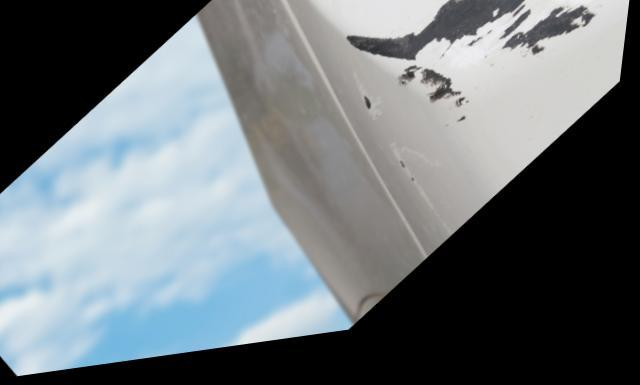scratch: (339, 0, 603, 144), (362, 94, 467, 251)
